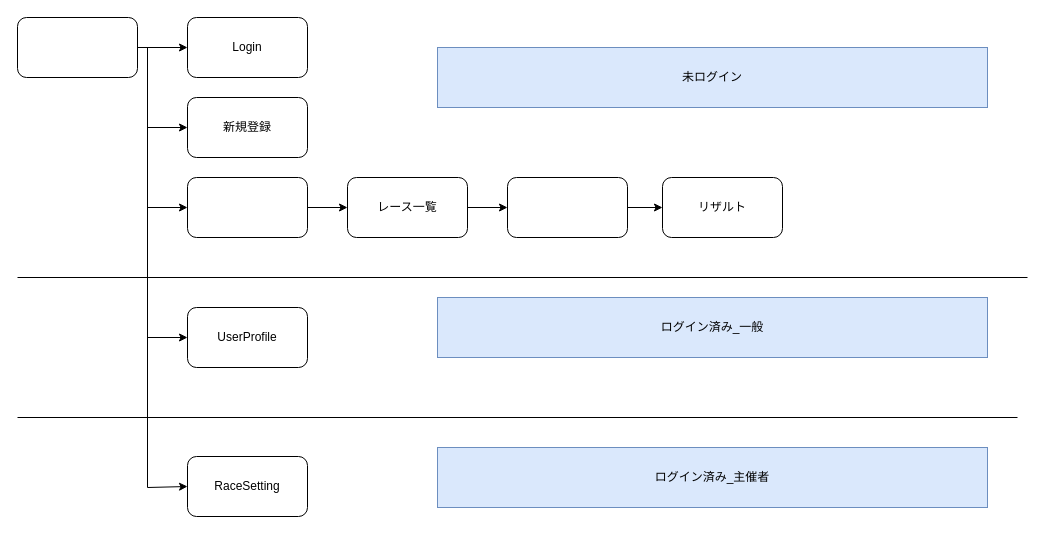
Some shapes in this 1046 by 534 pixel diagram are drawn without their labels. The shapes that lost their labels are listed below. From the top down, each one's centre as x and y in pixels, then its label:
(77,47): Index
(247,207): レース検索
(567,207): レース詳細
